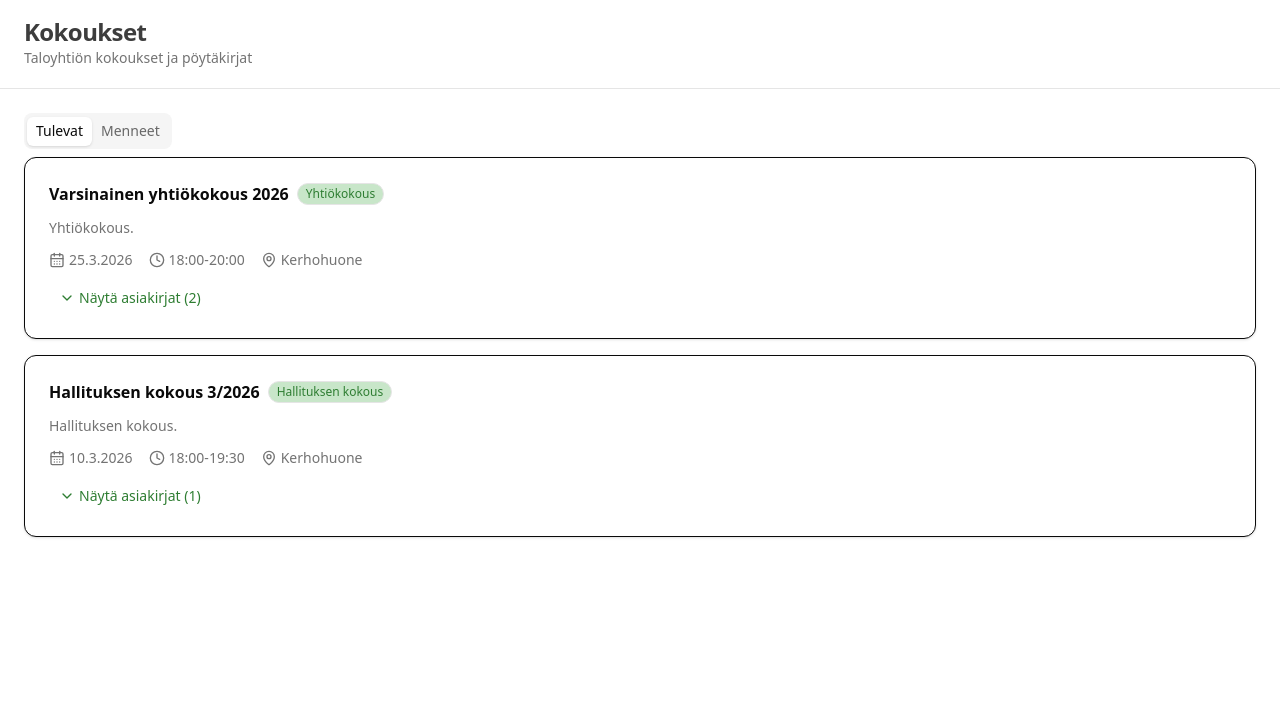
Scenario: MeetingsPage › toggles document list on click
Expected: the text "Varsinainen yhtiökokous 2026" is shown, left=49, top=182, right=289, bottom=206
Click the button "Näytä asiakirjat (2)" at coordinates (130, 298), box left=49, top=282, right=211, bottom=314
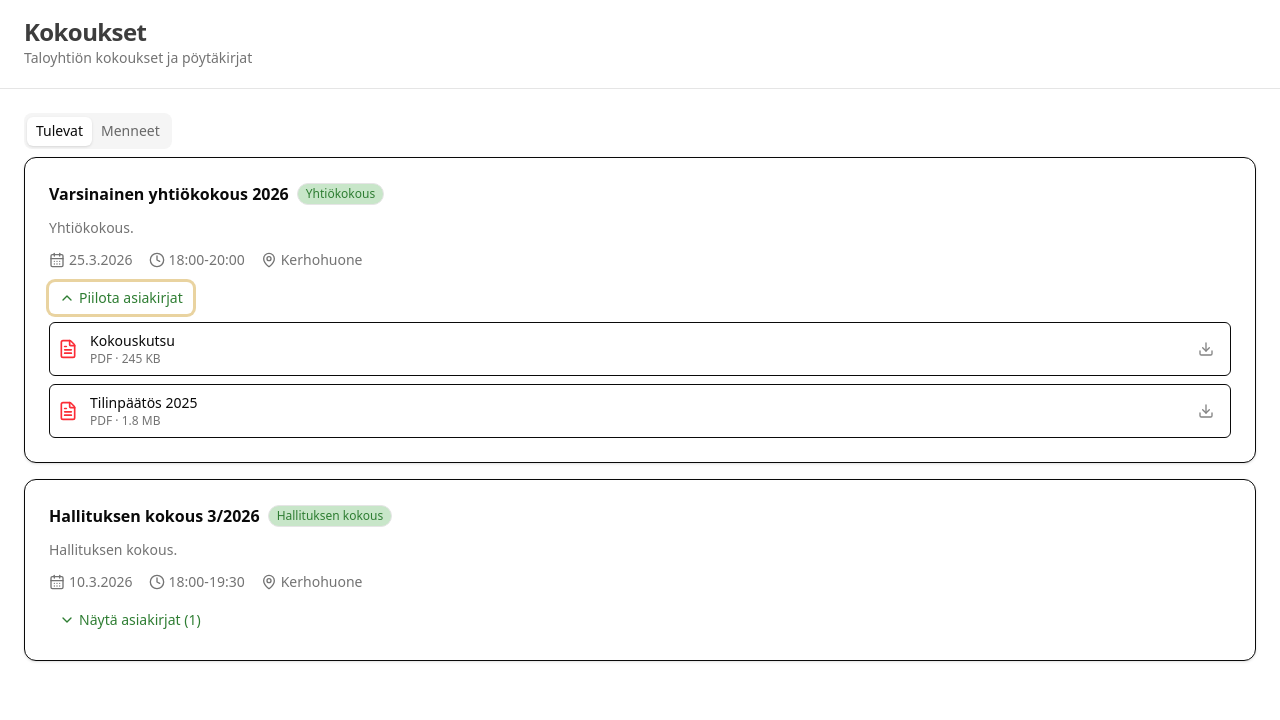
Result: the text "Kokouskutsu" is shown at left=90, top=331, right=175, bottom=350
Result: the text "Tilinpäätös 2025" is shown at left=90, top=393, right=198, bottom=412
